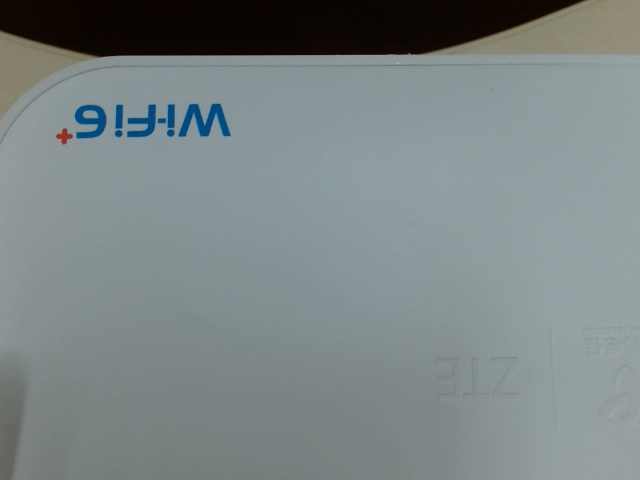AJ_ZTEWIFI6Plus: (47, 96, 239, 150)
